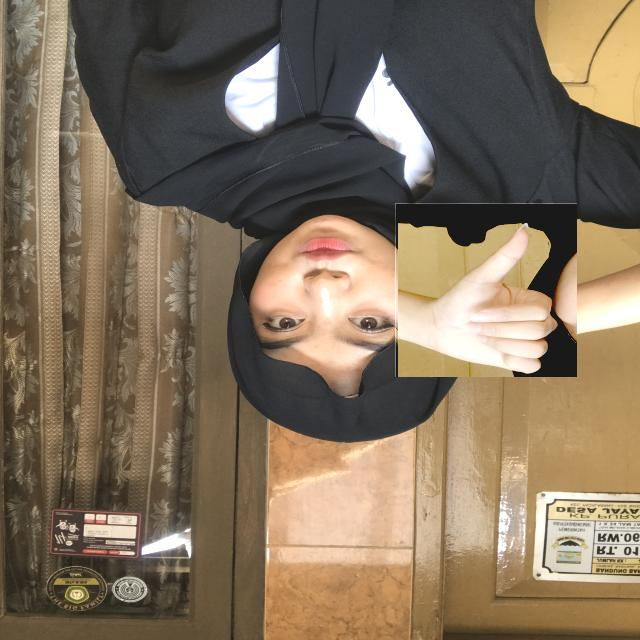sedih: (394, 202, 576, 376)
